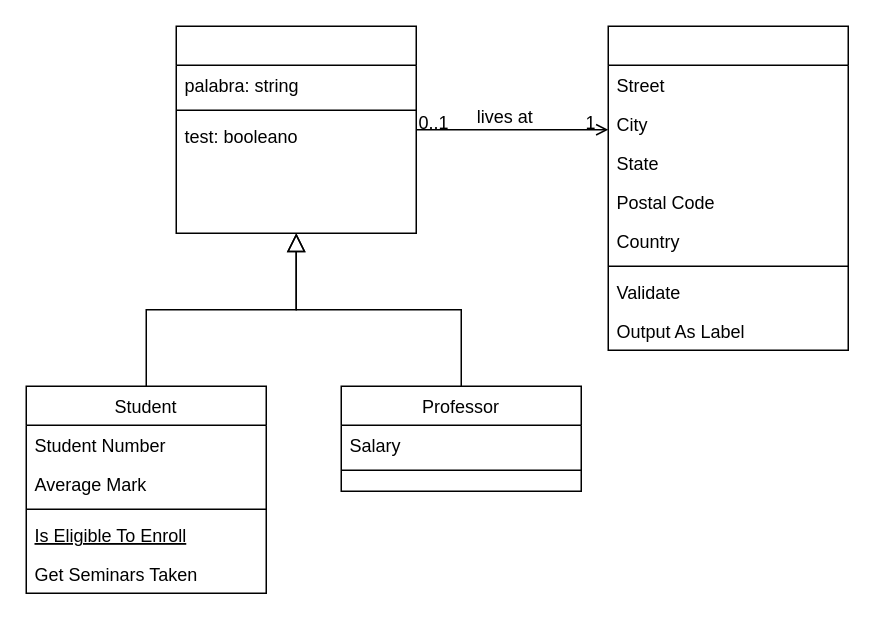
This 875x624 diagram has some shape labels left out. Here are the shapes that lost their labels. From the top down, the box of each, then its label:
(175, 25, 416, 233): Palindromo
(607, 25, 848, 350): Address
